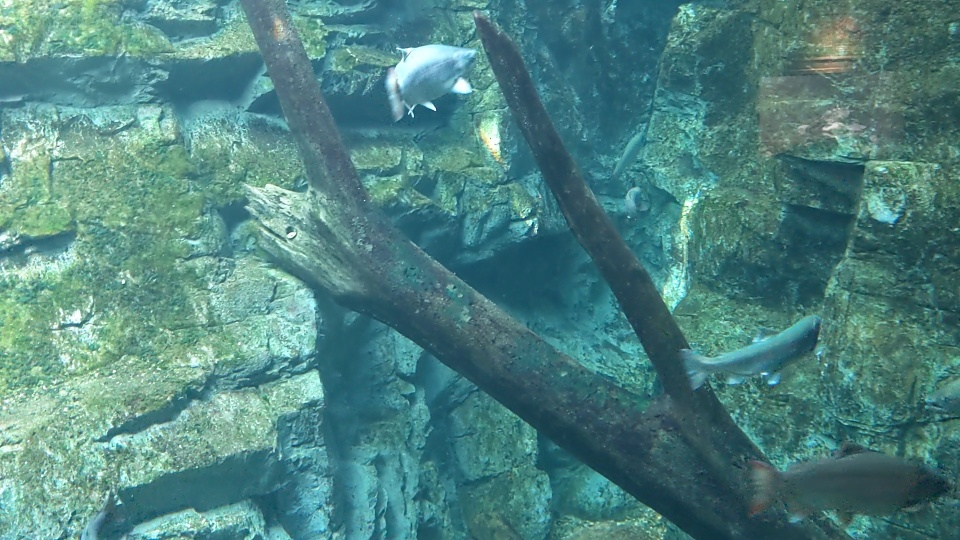Fish: (733, 435, 948, 524), (673, 307, 822, 391), (381, 41, 474, 120), (75, 474, 130, 540), (611, 130, 648, 174), (626, 188, 644, 219)
